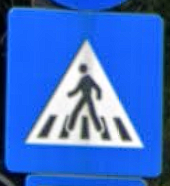trecere_pietoni: (3, 4, 165, 178)
